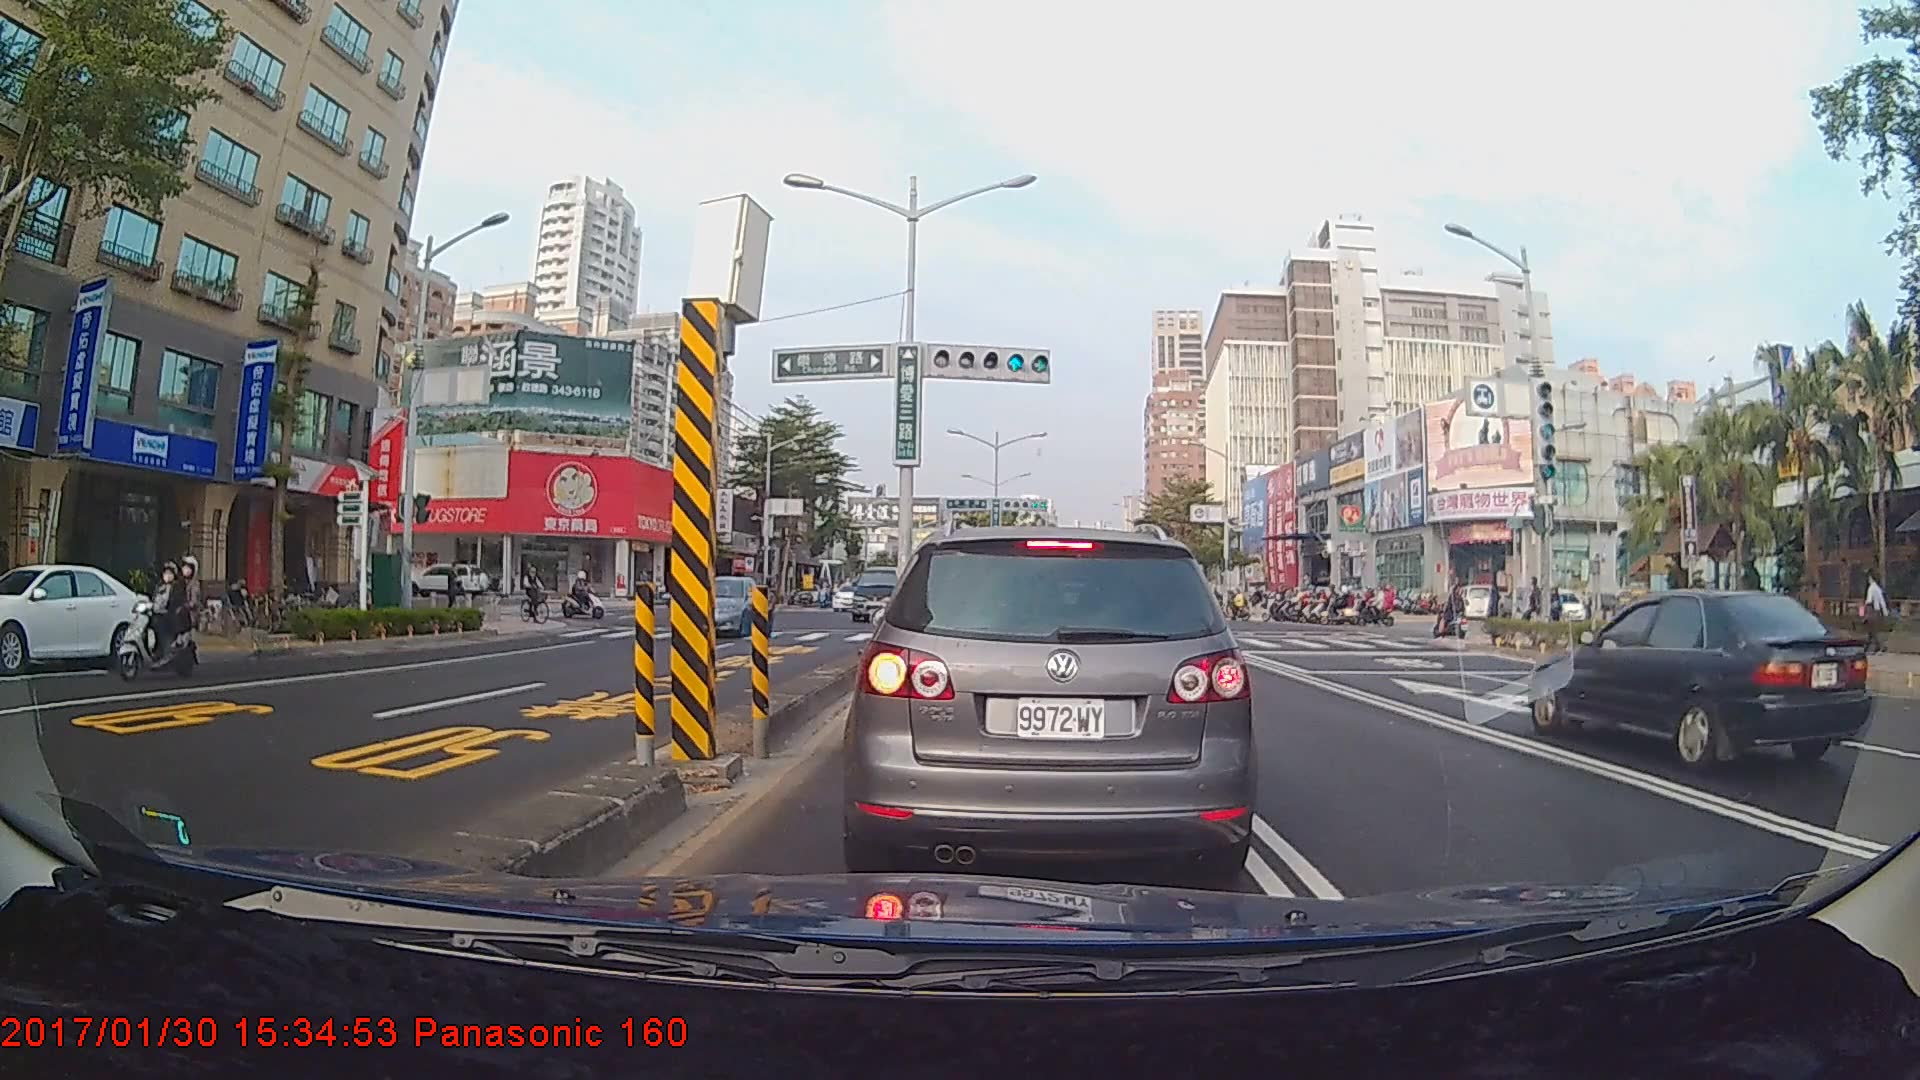pedestrian: (1866, 574, 1886, 655), (443, 558, 468, 621), (1484, 579, 1509, 637)
rider: (106, 554, 201, 687), (562, 568, 613, 625), (518, 559, 553, 629), (1436, 582, 1473, 646)
vehicle: (852, 523, 1251, 875), (1527, 586, 1871, 774), (0, 561, 157, 671), (672, 574, 771, 637), (849, 563, 908, 621), (832, 581, 868, 610)
